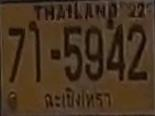1: (35, 28, 41, 82)
2: (127, 24, 147, 81)
4: (106, 23, 124, 80)
5: (63, 26, 82, 80)
7: (8, 27, 24, 83)
9: (84, 26, 102, 80)
CCO: (42, 86, 116, 113)
